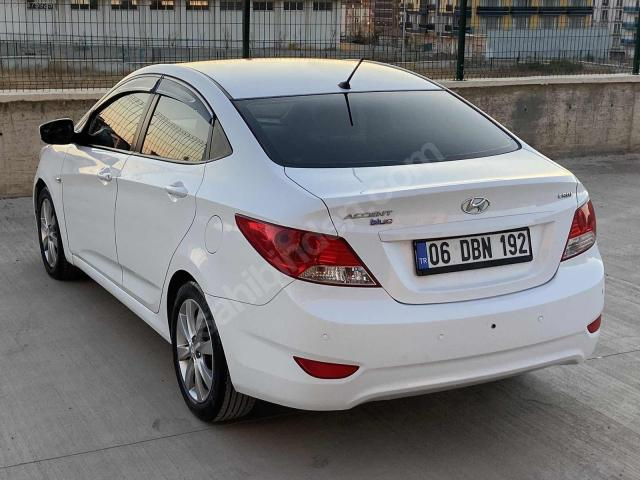plaka: (415, 228, 532, 275)
